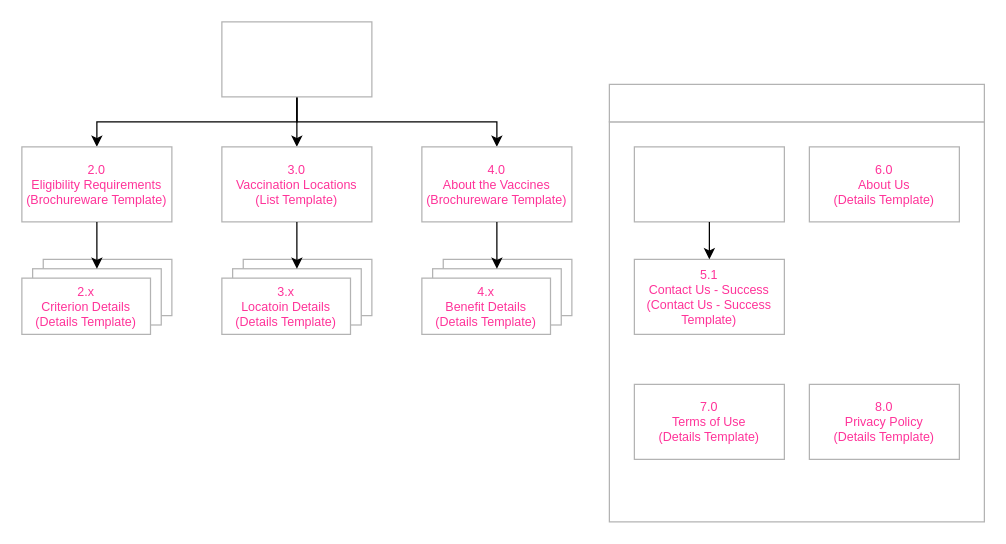
The diagram is 1006 pixels wide and 544 high, and some of its shapes have lost their labels. The shapes that lost their labels are listed below. From the top down, each one's box as (x1, y1, x2, y2) in pixels, then its label:
(221, 21, 372, 97): 1.0 Home (Home Template)
(608, 83, 984, 122): Footer Links
(633, 146, 784, 222): 5.0 Contact Us (Contact Us Template)
